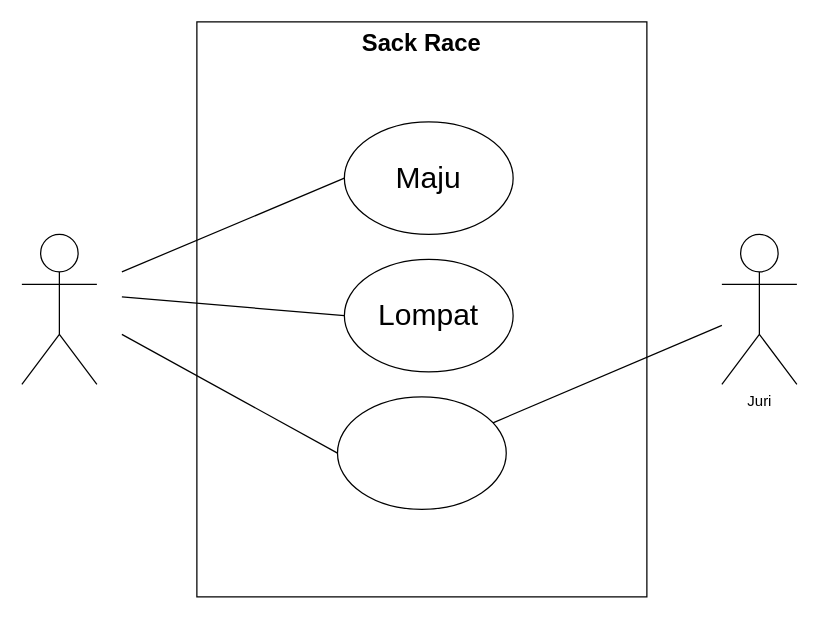
The diagram is 819 pixels wide and 619 high, and some of its shapes have lost their labels. Here are the shapes that lost their labels. From the top down, the centre of each, then its label:
At point 59,308: "Pemain".
At point 421,452: "Finish".
